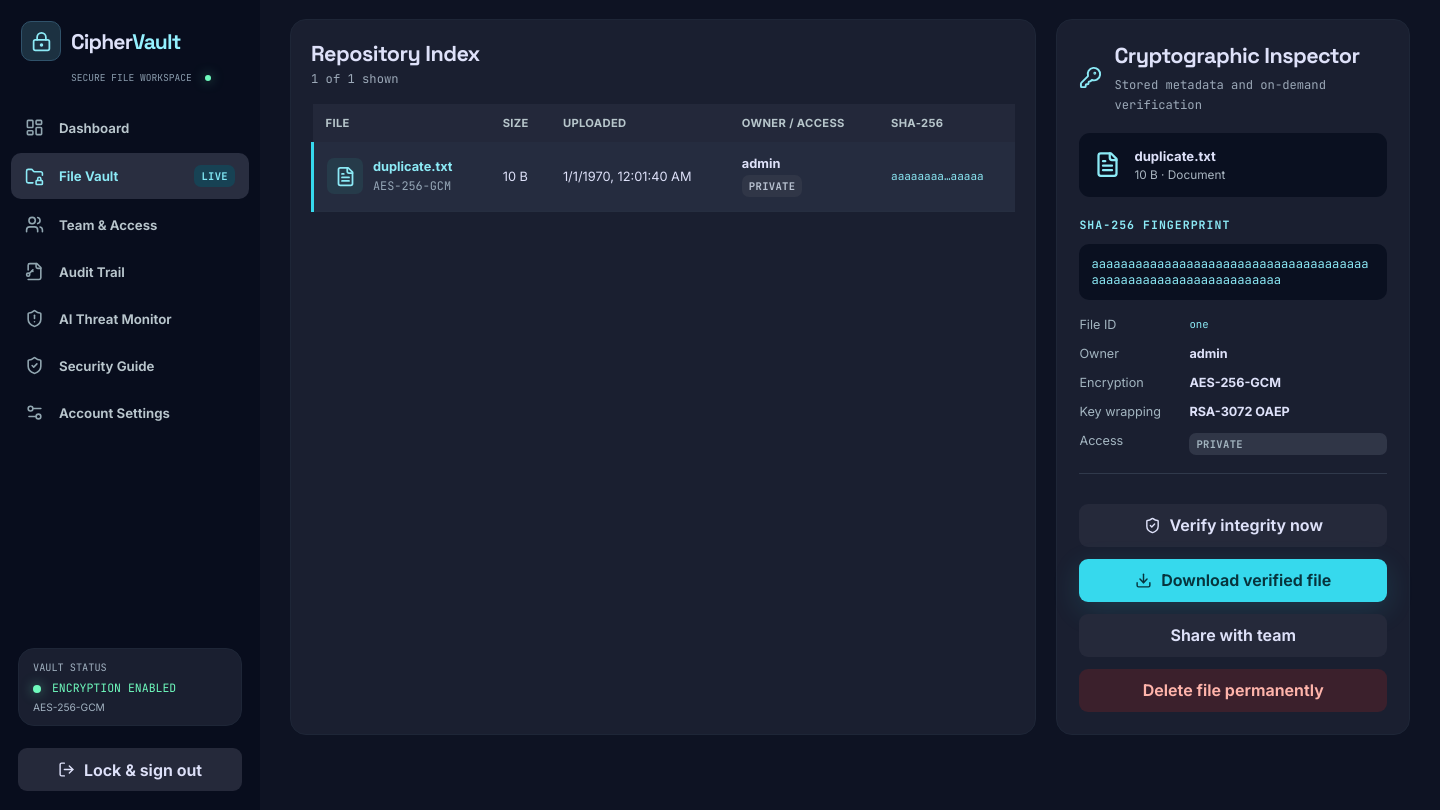
a failed download cannot keep a previous verification indicator
(page scrolled)
Expected: the heading "Repository Index" is shown, [311,40,480,66]
What coordinates should you click on to do the following:
click the button "Verify integrity now"
I would click on:
 (1233, 525)
Its box is [1079,504,1387,546].
(page scrolled)
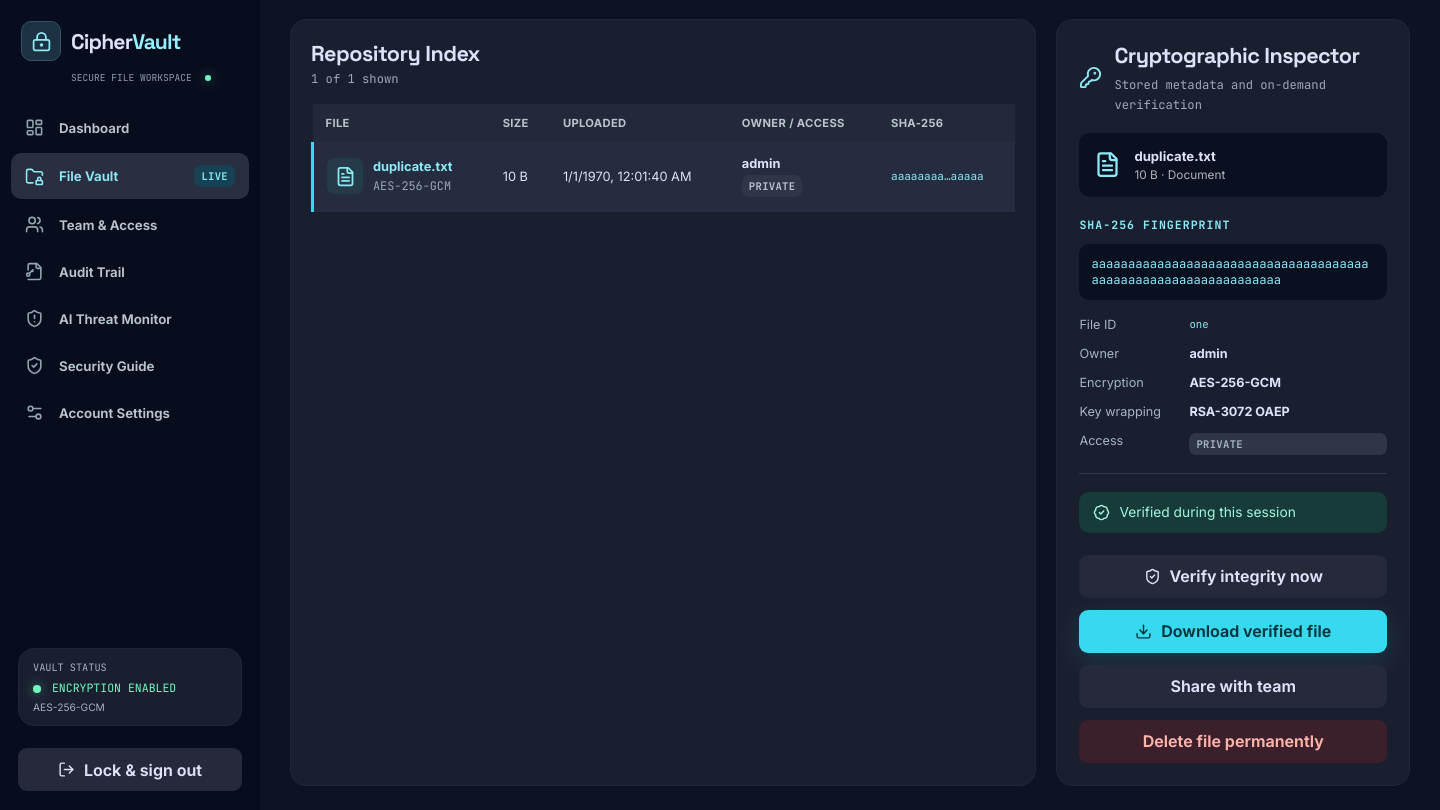
Expected: the button "Verify integrity now" is enabled, [1079,554,1387,598]
Now the text "Verified during this session" is shown, box [1079,492,1387,532]
What coordinates should you click on to do the following:
click the button "Download verified file"
I would click on:
 (1233, 631)
Its box is [1079,610,1387,652].
(page scrolled)
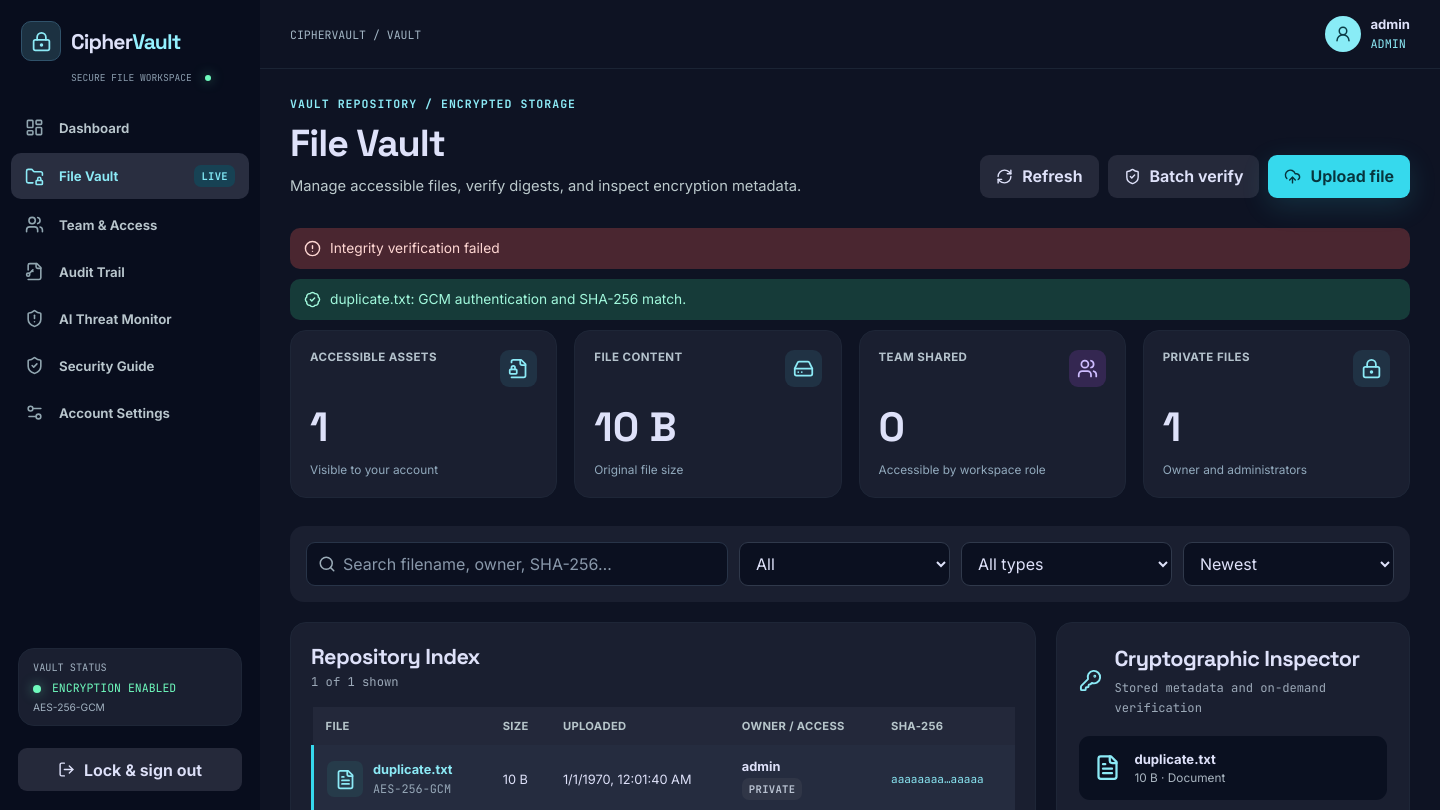
Now the text "Integrity verification failed" is shown, box [290,228,1410,268]
Now the text "Verified during this session" is gone
